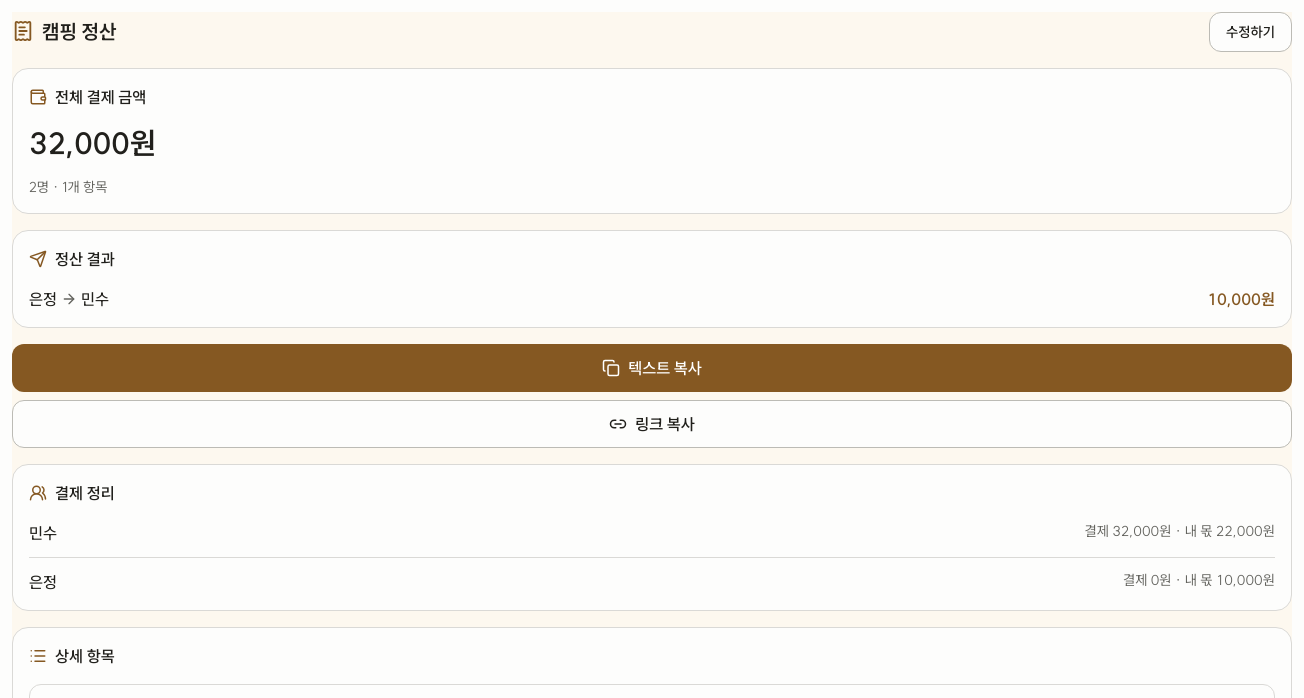
Test case: ResultSection › 클립보드 복사 실패를 알린다
The width and height of the screenshot is (1304, 698).
Click the button "텍스트 복사" at {"x": 652, "y": 368}, box x1=12 y1=344 x2=1292 y2=392
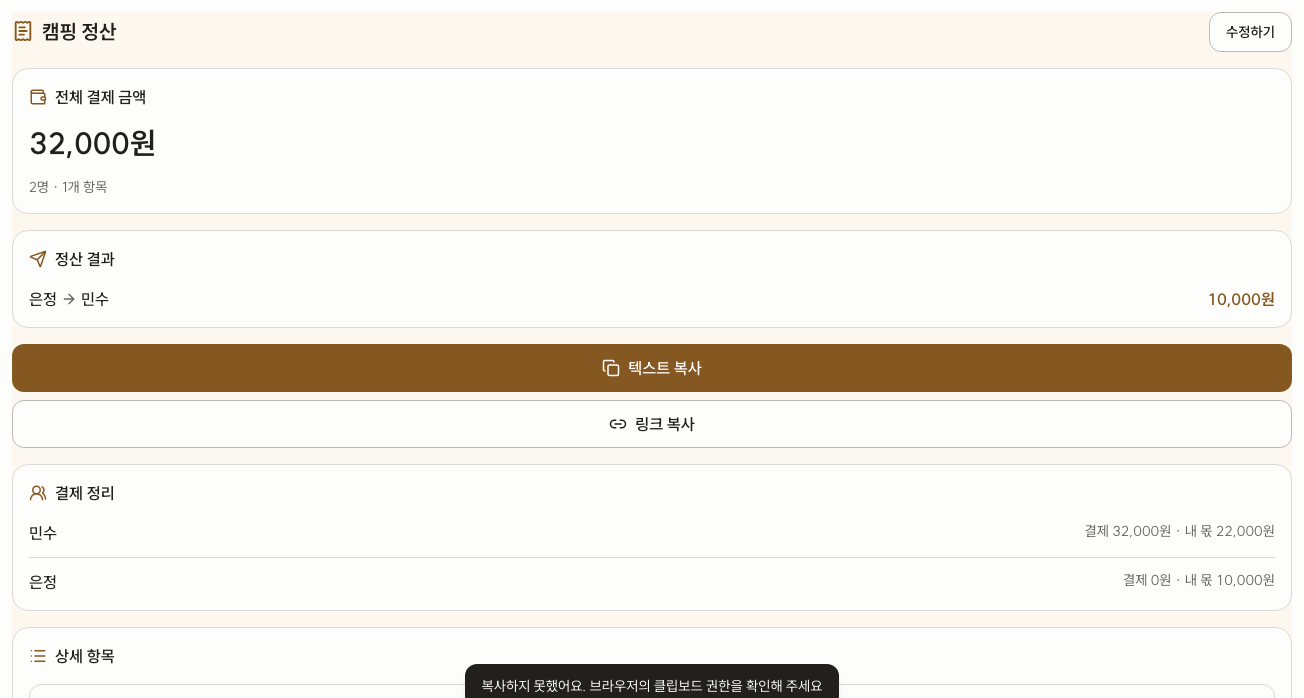
Check: the message reads "복사하지 못했어요. 브라우저의 클립보드 권한을 확인해 주세요", box x1=481 y1=677 x2=823 y2=695
